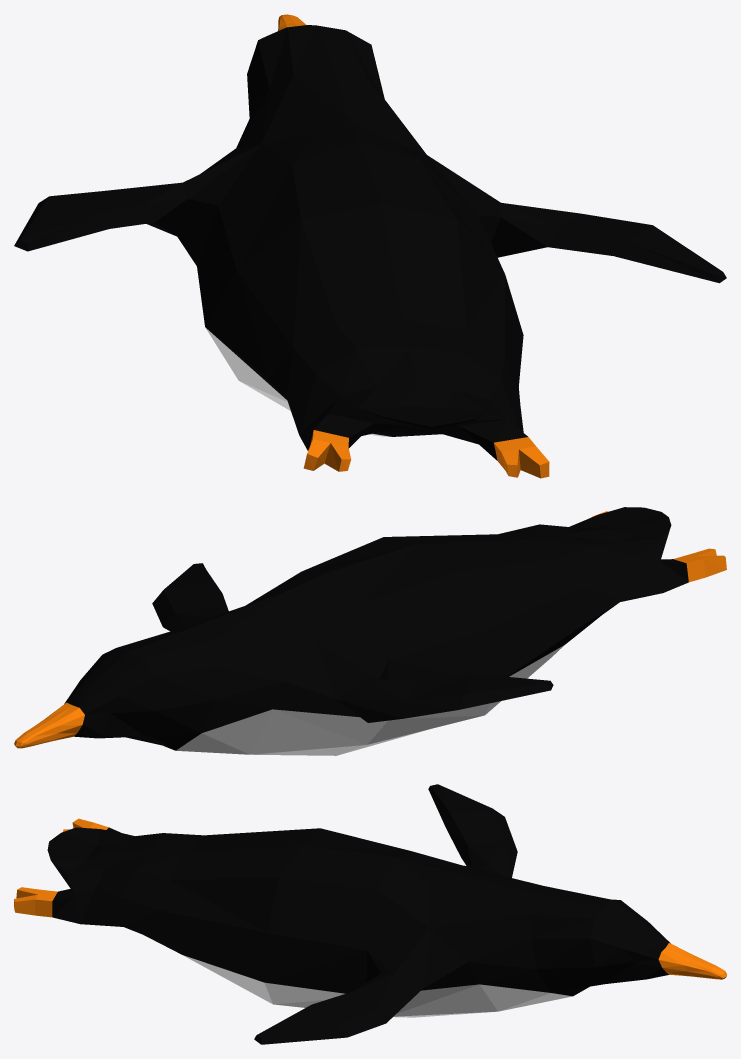
The model's file is PenguinC.obj.
The picture shows the model from 3 angles, top to bottom: view 1: azimuth 30°, elevation 25°; view 2: azimuth 150°, elevation 25°; view 3: azimuth 270°, elevation 25°; orthographic projection. The views are drawn at different scales.
Parts seen in each view (by area): view 1: PenguinC1:Mesh; view 2: PenguinC1:Mesh; view 3: PenguinC1:Mesh.
Part boxes in pixels (x1,y1,x2,y2): PenguinC1:Mesh: (14,14,726,478); PenguinC1:Mesh: (14,507,726,755); PenguinC1:Mesh: (14,784,726,1044).
Size of the model in its own units: 1.34 by 0.4564 by 2.01.
Materials: 5 (5 with a texture image).
